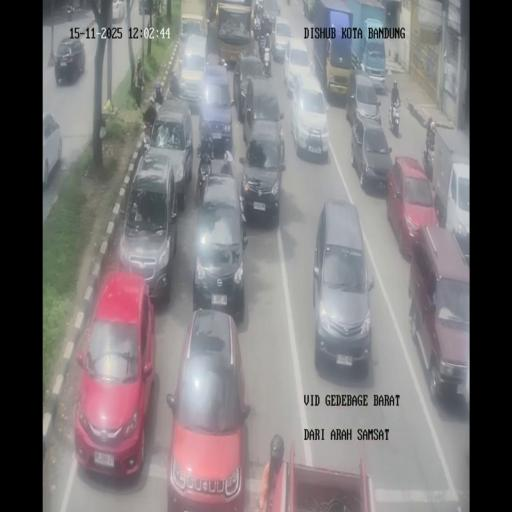car: (73, 270, 156, 478), (164, 308, 250, 508), (408, 228, 469, 402), (314, 198, 374, 372), (190, 173, 248, 318), (146, 97, 194, 205), (387, 158, 438, 258), (239, 122, 284, 226), (351, 116, 393, 192), (291, 80, 330, 159), (198, 65, 233, 152), (233, 54, 266, 122), (178, 36, 208, 107), (348, 70, 380, 128), (54, 36, 86, 86), (284, 39, 312, 96), (42, 114, 62, 188), (271, 16, 292, 61), (111, 0, 125, 22)
motorcycle: (194, 152, 212, 205), (388, 94, 402, 136), (422, 137, 434, 180), (262, 42, 272, 77), (260, 10, 272, 38), (143, 116, 154, 145), (169, 71, 180, 100), (220, 158, 234, 178), (253, 14, 261, 44), (155, 81, 164, 105), (218, 57, 228, 70), (66, 4, 73, 18)
truck: (274, 436, 376, 511), (432, 128, 470, 240), (312, 0, 352, 101), (214, 1, 252, 68), (302, 0, 316, 22)
